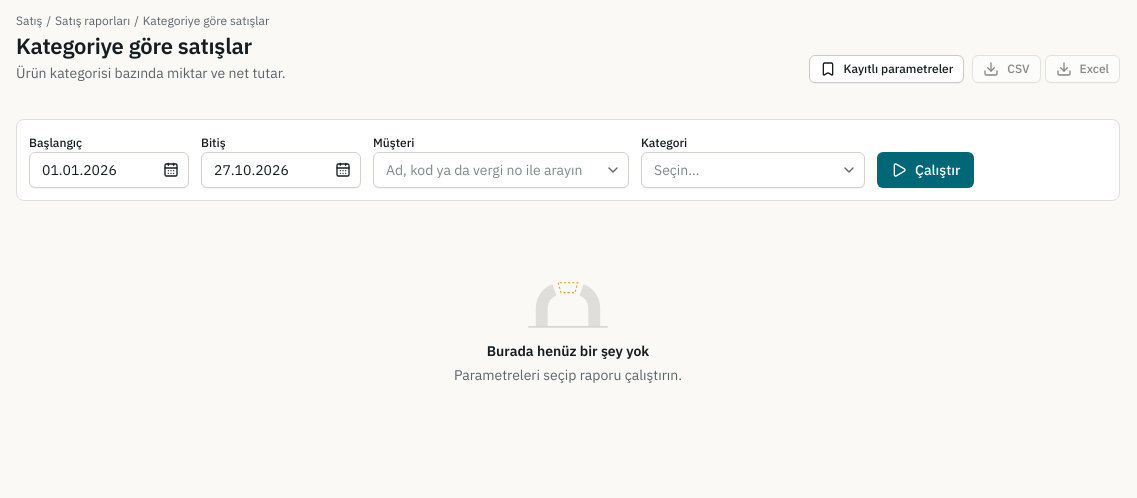
sales reports › lists categories by name and uncategorised sales separately
Click the button "Çalıştır".
click(926, 170)  # box [877, 152, 974, 188]
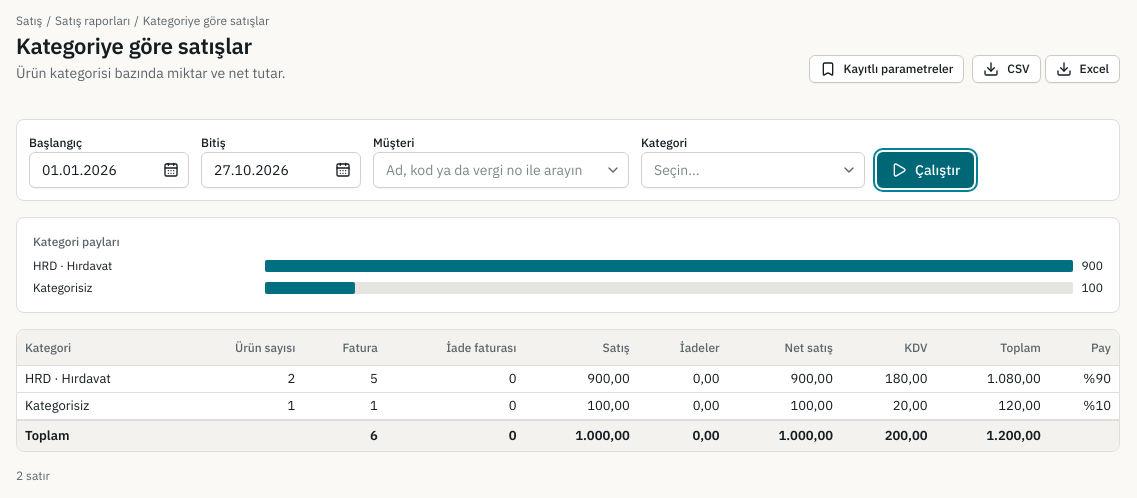
Now the text "HRD · Hırdavat" is shown, box [17, 366, 181, 393]
Now the text "Kategorisiz" is shown, box [17, 393, 181, 420]
Now the row with test id "report-totals" shows "1.000,00", box [575, 427, 630, 444]
